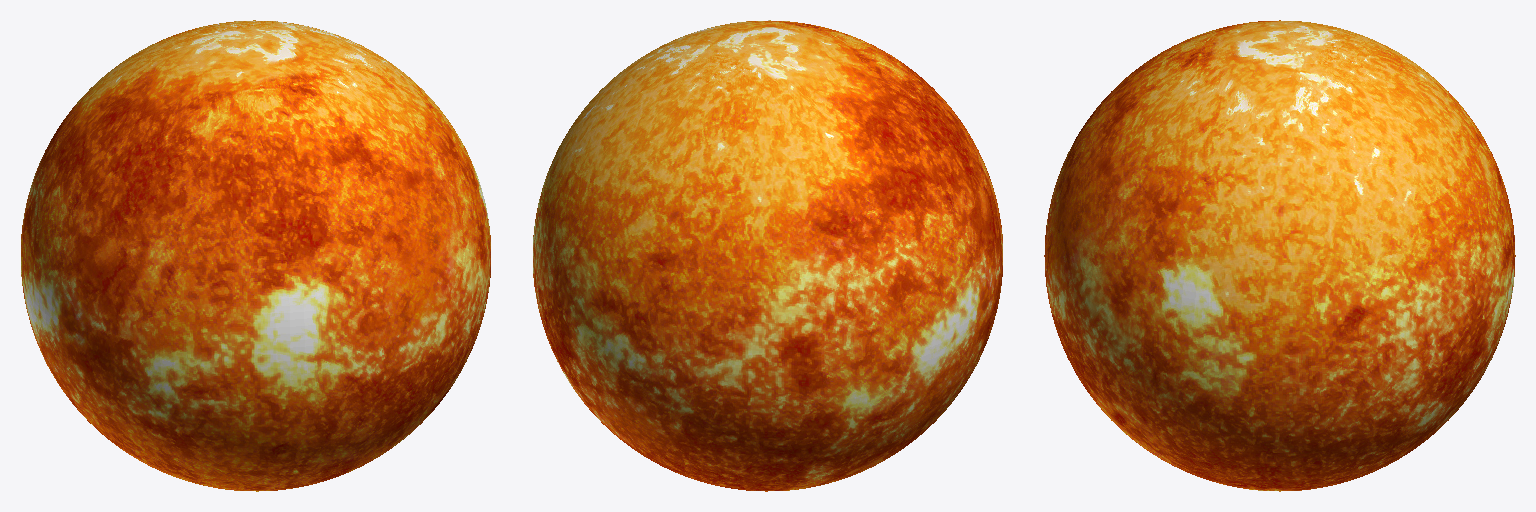
3 views of the same model, side by side, from view 1: azimuth 30°, elevation 25°; view 2: azimuth 150°, elevation 25°; view 3: azimuth 270°, elevation 25° (orthographic).
Visible parts, largest first — view 1: obj1; view 2: obj1; view 3: obj1.
Boxes of the visible parts, box(x1,y1,x2,y2) form: obj1: box(21, 20, 490, 491); obj1: box(533, 20, 1002, 491); obj1: box(1044, 20, 1515, 491).
Bounding box in the file's own units: 0.2 × 0.2 × 0.2.
Materials: 1 (1 with a texture image).